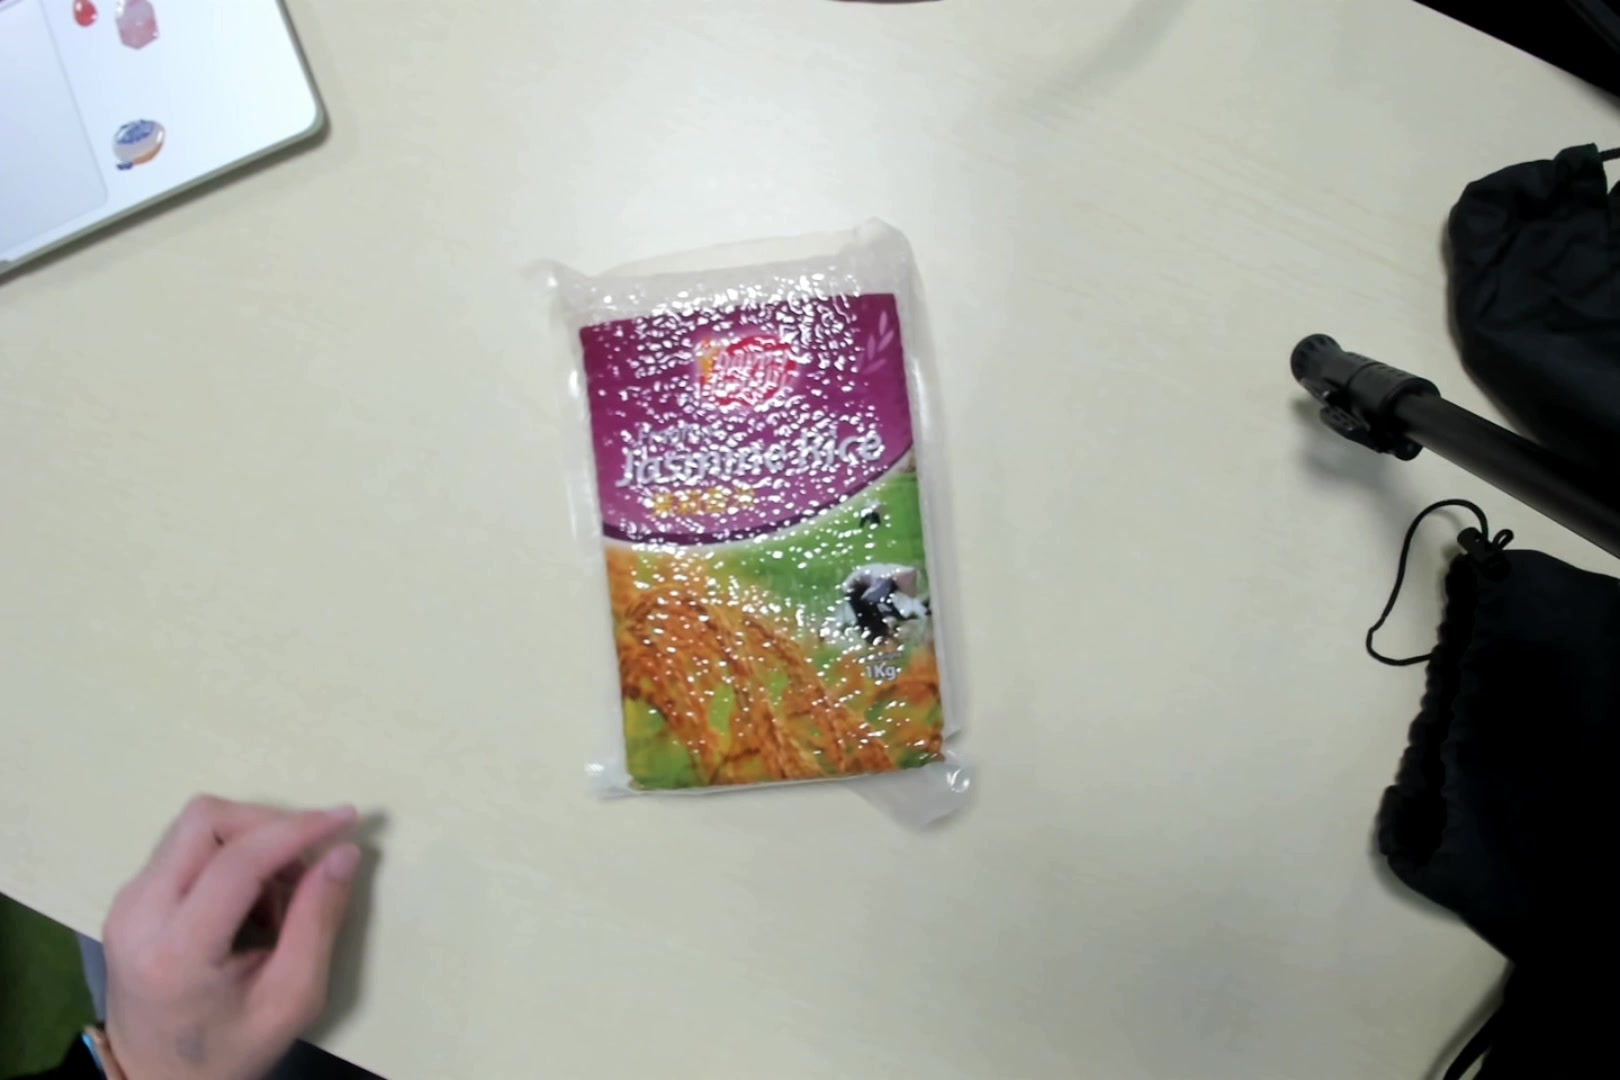Rice(White)_1000-1999g_NonHalal_NonHealthy: (533, 237, 984, 805)
